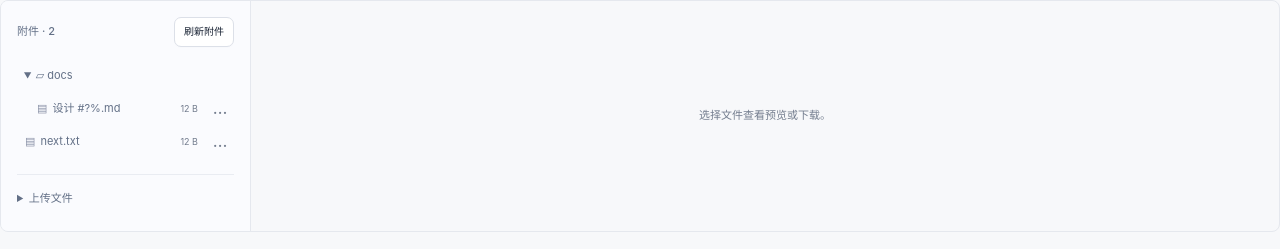
Test: task attachments › keeps a real new-tab link bound to the current selection while its content is pending
Click the button "▤ 设计 #?%.md 12 B" at (118, 109), box [29,92,206,125]
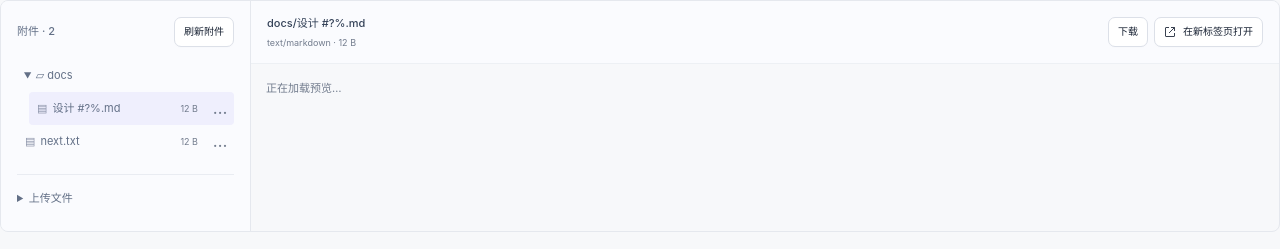
Expected: the message shows "正在加载预览", [266,81,342,95]
Click the button "▤ next.txt 12 B" at (112, 142), box [17,125,206,158]
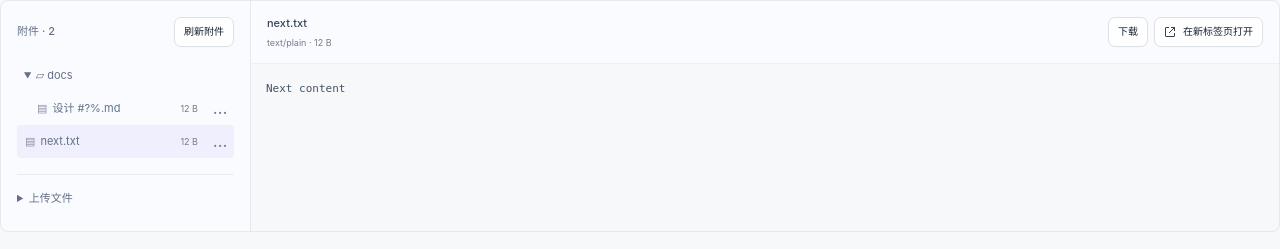
Expected: the text "Next content" is shown, [266,82,346,95]
